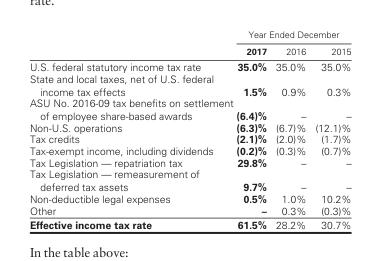table: (28, 28, 350, 230)
table column: (28, 28, 234, 230), (270, 28, 310, 230), (310, 28, 350, 230), (234, 28, 270, 230)
table column header: (28, 28, 350, 58)
table row: (28, 96, 350, 121), (28, 167, 350, 192), (28, 72, 350, 96), (28, 42, 350, 58), (28, 28, 350, 42), (28, 58, 350, 72), (28, 216, 350, 230), (28, 132, 350, 144), (28, 144, 350, 156), (28, 192, 350, 204), (28, 204, 350, 216), (28, 121, 350, 132), (28, 156, 350, 167)
table spanning cell: (234, 28, 350, 42)
